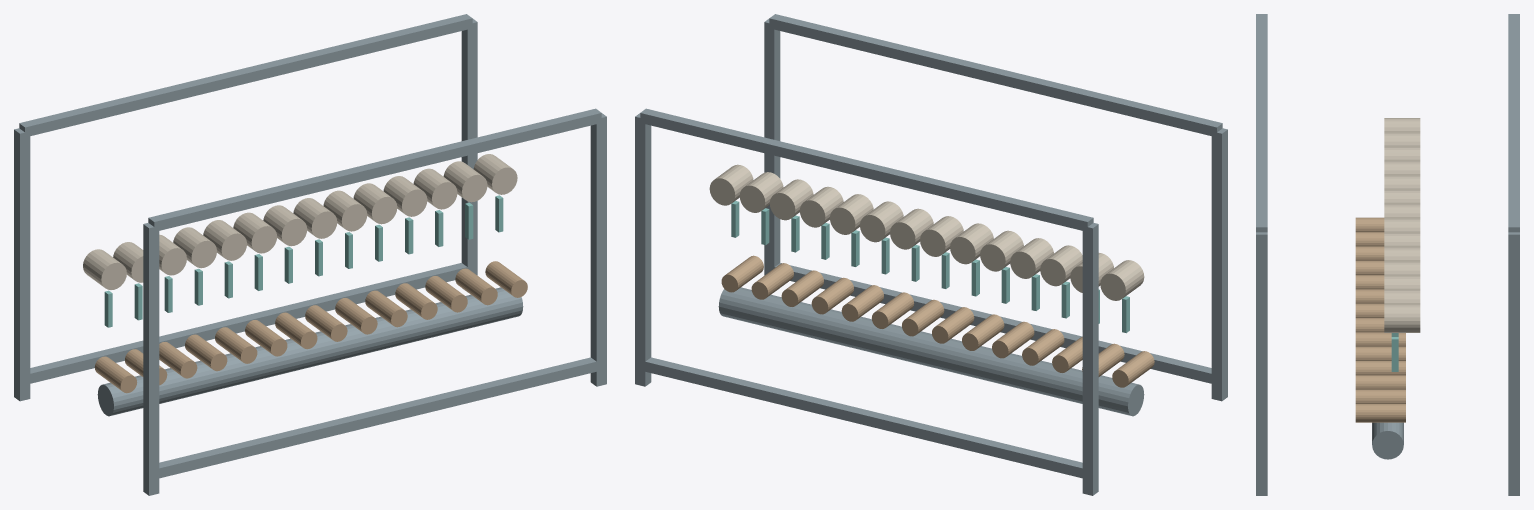
Rendered from spinner.glb.
3 views of the same model, side by side, from view 1: azimuth 30°, elevation 25°; view 2: azimuth 150°, elevation 25°; view 3: azimuth 270°, elevation 25° (orthographic). The views are drawn at different scales.
Visible parts, largest first — view 1: rotor, cross_-1.75_4, cross_1.75_4, cross_1.75_0.3, cross_-1.75_0.3, post_-3.5_-1.75, post_-3.5_1.75, post_3.5_1.75, post_3.5_-1.75, bobbin_0, bobbin_11, bobbin_8 (+24 smaller); view 2: rotor, cross_1.75_4, cross_-1.75_4, cross_-1.75_0.3, post_-3.5_-1.75, post_-3.5_1.75, post_3.5_-1.75, cross_1.75_0.3, post_3.5_1.75, bobbin_0, bobbin_4, bobbin_3 (+23 smaller); view 3: post_3.5_-1.75, post_3.5_1.75, cross_-1.75_4, cross_1.75_4, rotor, bobbin_13, spindle_13, spindle_11, spindle_12, spindle_10, spindle_9, spindle_8 (+21 smaller).
Boxes of the visible parts, x1,y1,x2,y2 form: rotor: (97,287,523,416); cross_-1.75_4: (19,14,472,136); cross_1.75_4: (148,108,601,230); cross_1.75_0.3: (154,357,596,479); cross_-1.75_0.3: (25,263,472,384); post_-3.5_-1.75: (14,128,30,401); post_-3.5_1.75: (143,223,159,495); post_3.5_1.75: (590,113,606,386); post_3.5_-1.75: (461,18,477,275); bobbin_0: (83,249,126,289); bobbin_11: (413,168,457,209); bobbin_8: (323,190,367,231); rotor: (718,287,1144,416); cross_1.75_4: (769,14,1222,135); cross_-1.75_4: (640,108,1093,230); cross_-1.75_0.3: (640,357,1082,478); post_-3.5_-1.75: (1082,223,1098,495); post_-3.5_1.75: (1211,128,1227,401); post_3.5_-1.75: (635,113,651,386); cross_1.75_0.3: (769,263,1211,383); post_3.5_1.75: (764,18,780,275); bobbin_0: (1100,260,1144,300); bobbin_4: (980,230,1023,271); bobbin_3: (1010,238,1053,278); post_3.5_-1.75: (1508,232,1519,495); post_3.5_1.75: (1256,232,1267,495); cross_-1.75_4: (1508,14,1519,232); cross_1.75_4: (1256,14,1267,232); rotor: (1372,422,1403,459); bobbin_13: (1384,304,1420,332); spindle_13: (1355,404,1405,422); spindle_11: (1355,375,1405,389); spindle_12: (1355,389,1405,403); spindle_10: (1355,361,1405,375); spindle_9: (1355,346,1405,360); spindle_8: (1355,332,1405,346).
Bounding box in the file's own units: 7.16 × 4.08 × 3.66.
